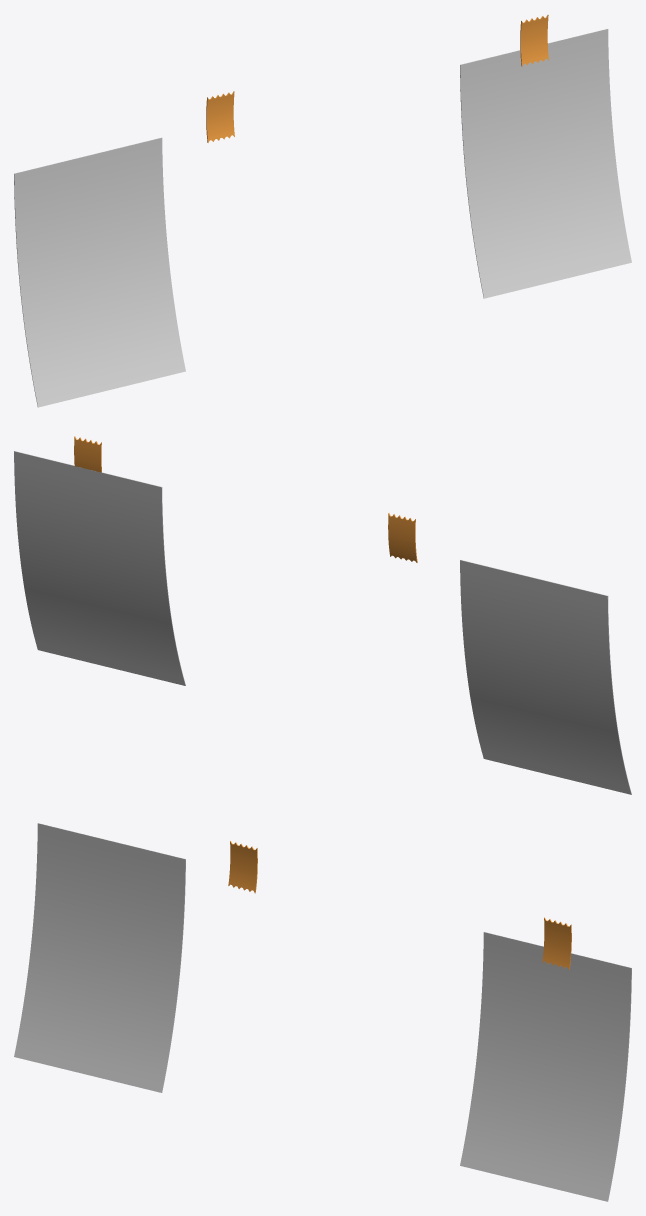
File: 便签条.glb
3 views of the same model, one above another, from view 1: azimuth 30°, elevation 25°; view 2: azimuth 150°, elevation 25°; view 3: azimuth 330°, elevation 25° (orthographic).
Visible parts, largest first — view 1: Plane004, Plane001, Plane003, Plane002; view 2: Plane004, Plane001, Plane003, Plane002; view 3: Plane004, Plane001, Plane003, Plane002.
Boxes of the visible parts, box(x1,y1,x2,y2) form: Plane004: box(14, 137, 185, 407); Plane001: box(460, 29, 631, 298); Plane003: box(206, 91, 234, 142); Plane002: box(520, 15, 548, 66); Plane004: box(460, 560, 631, 794); Plane001: box(14, 451, 185, 685); Plane003: box(388, 513, 417, 562); Plane002: box(74, 436, 101, 472); Plane004: box(14, 823, 185, 1092); Plane001: box(460, 932, 631, 1201); Plane003: box(228, 841, 257, 893); Plane002: box(542, 917, 571, 969).
Bounding box in the file's own units: 0.1717 × 0.0679 × 0.0123.
